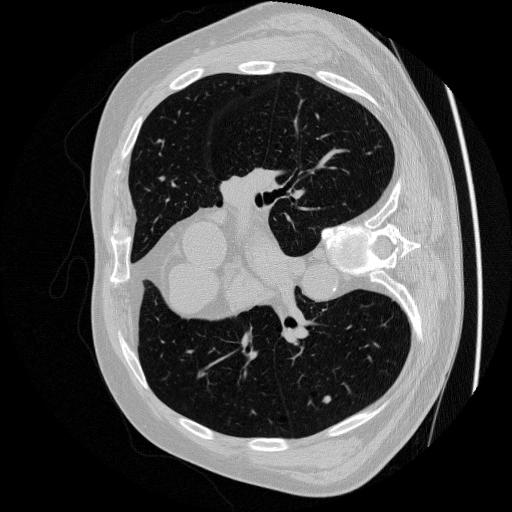nodule: (320, 392, 334, 406)
